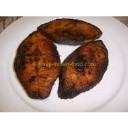seerfish: (14, 32, 60, 99), (61, 40, 108, 99), (37, 18, 103, 42)
